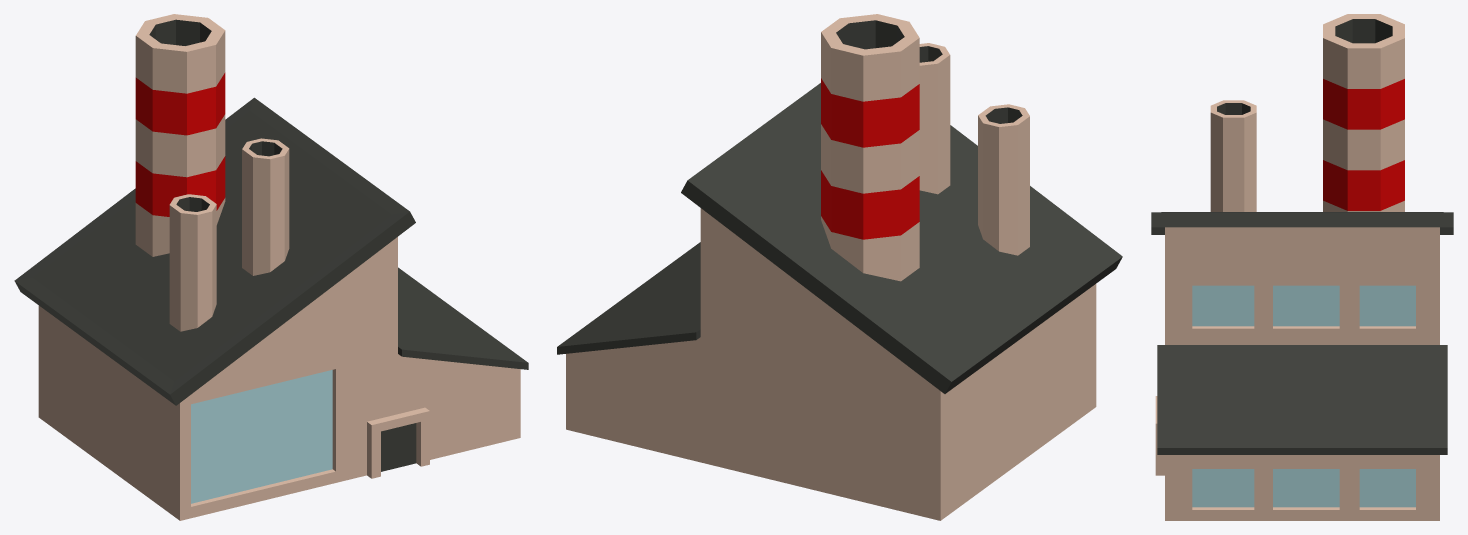
The model's file is Factory01.fbx.
3 renders of one model, left to right at view 1: azimuth 30°, elevation 25°; view 2: azimuth 150°, elevation 25°; view 3: azimuth 270°, elevation 25°, orthographic. The views are drawn at different scales.
Visible parts, largest first — view 1: Factory01; view 2: Factory01; view 3: Factory01.
Boxes of the visible parts, bbox=[...] form: Factory01: bbox=[14, 14, 528, 520]; Factory01: bbox=[557, 14, 1122, 520]; Factory01: bbox=[1151, 14, 1453, 520].
Bounding box in the file's own units: 266 × 272 × 198.
